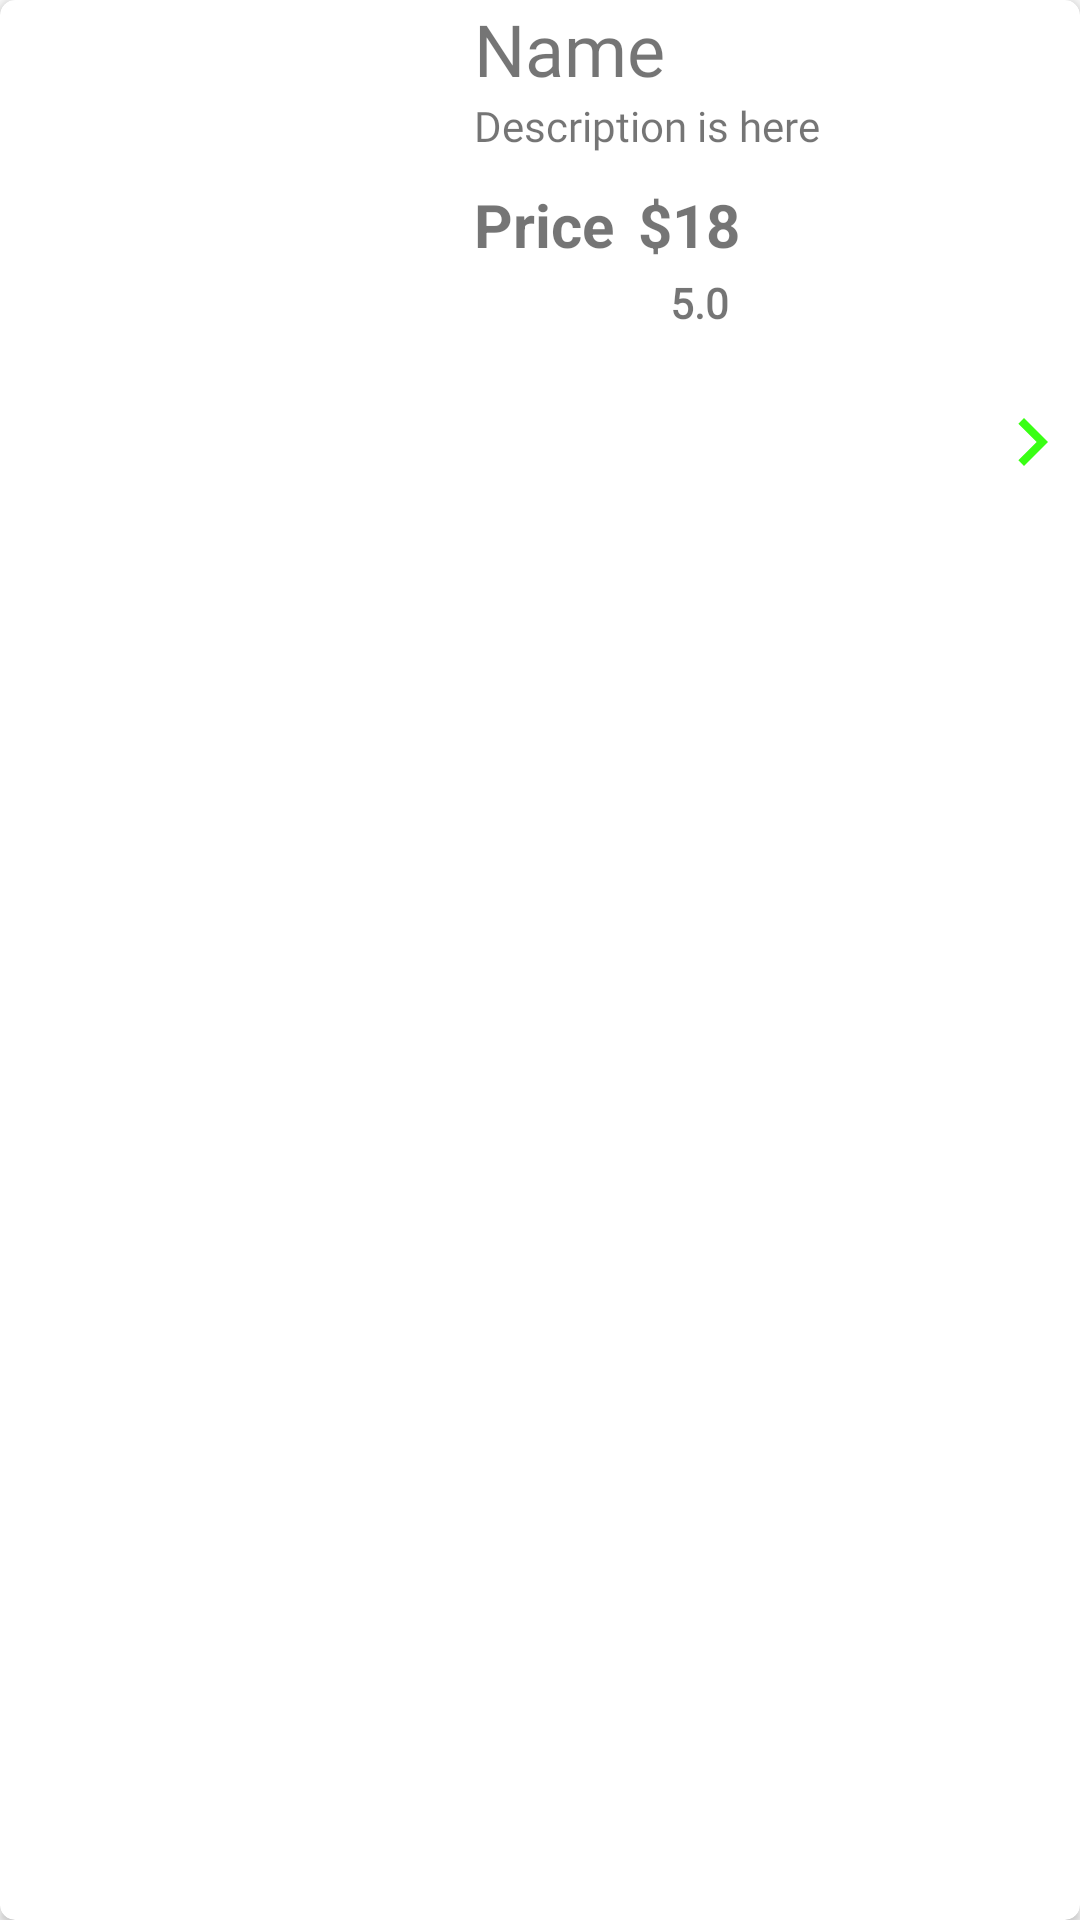

Locate icon controls on the screen. Image size 1080 × 1920, boxes as (x1, y1, x2, y2).
side wala arrow: (1018, 418, 1048, 466)
